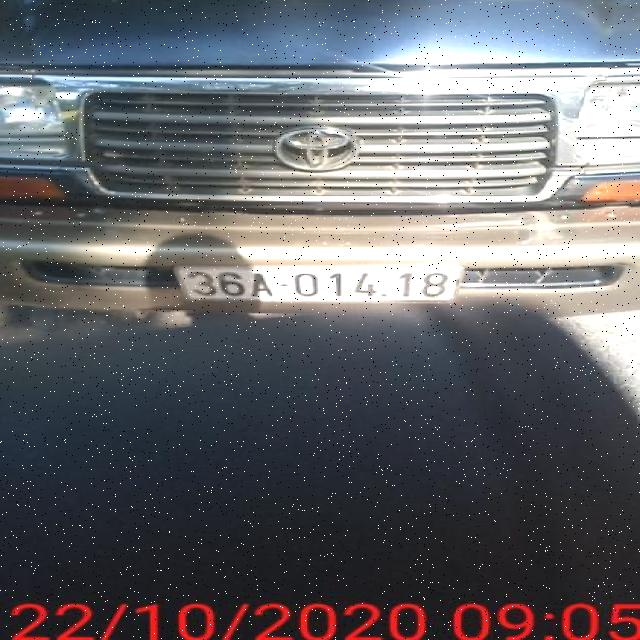0: (292, 270, 318, 298)
1: (328, 270, 347, 298), (396, 271, 412, 298)
3: (183, 269, 217, 297)
4: (351, 270, 378, 298)
6: (218, 270, 246, 297)
8: (420, 271, 447, 301)
A: (249, 270, 277, 298)
